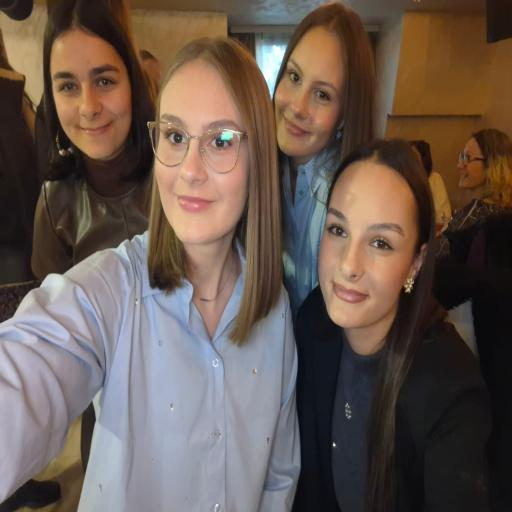marija: (317, 163, 419, 325)
